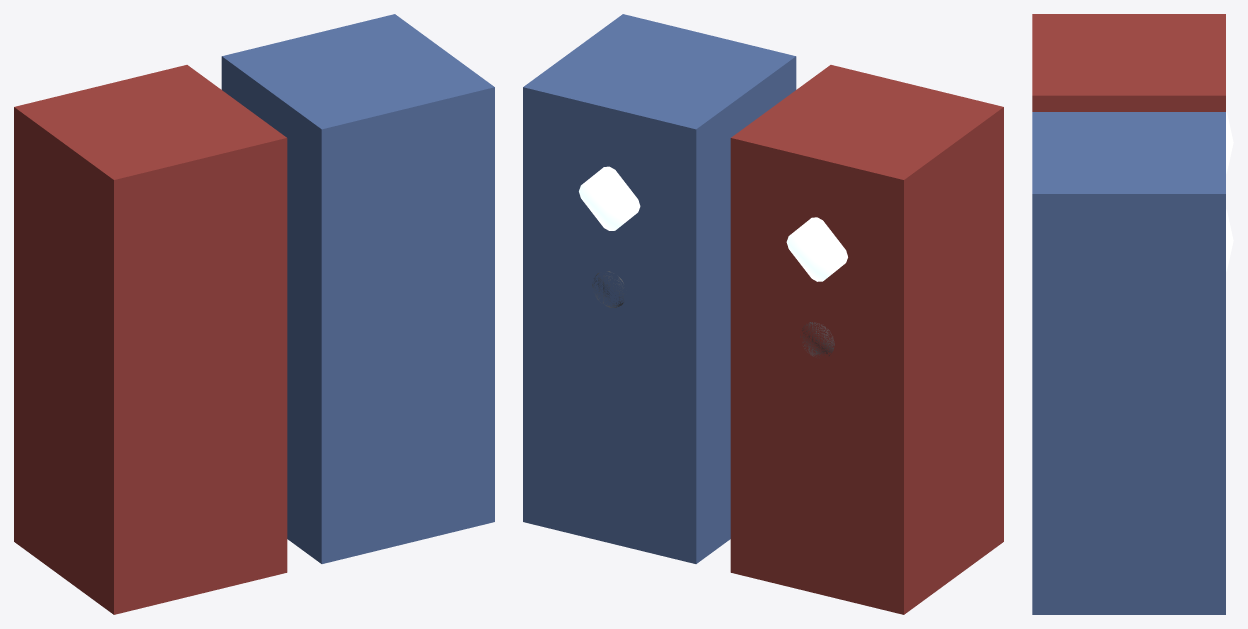
File: prop_gacha.glb
3 renders of one model, left to right at view 1: azimuth 30°, elevation 25°; view 2: azimuth 150°, elevation 25°; view 3: azimuth 270°, elevation 25°, orthographic. The views are drawn at different scales.
Visible parts, largest first — view 1: gacha; view 2: gacha; view 3: gacha.
Boxes of the visible parts, box(x1,y1,x2,y2) form: gacha: box(14, 14, 494, 614); gacha: box(523, 14, 1003, 614); gacha: box(1032, 14, 1233, 614).
Size of the model in its own units: 1.1 by 1.2 by 0.52.
